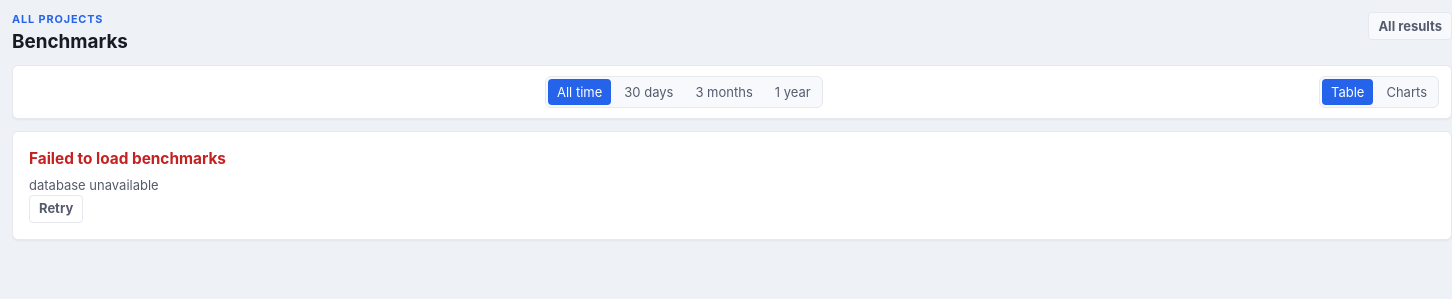
Test: SeriesBrowse › retries a failed load
Click the button "Retry": (56, 208) [29,194,83,222]
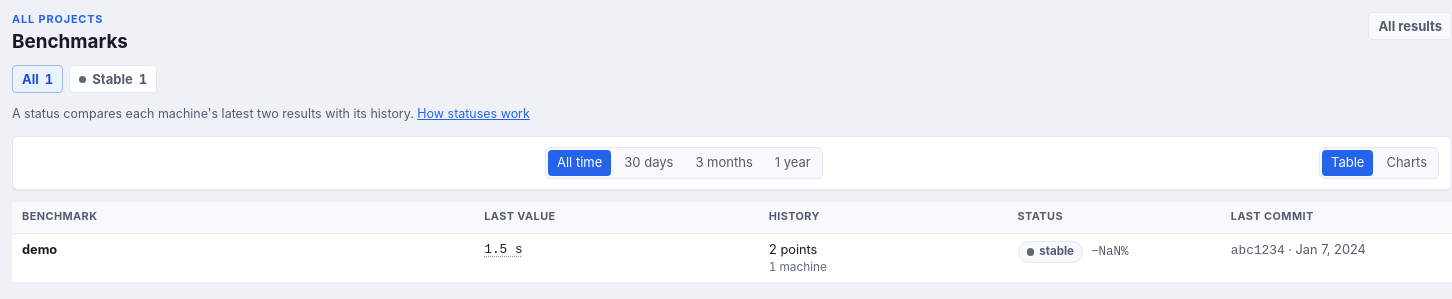
Result: the link "demo" is shown at [22,242,57,257]
Result: the message "Failed to load benchmarks database unavailable Retry" is gone
